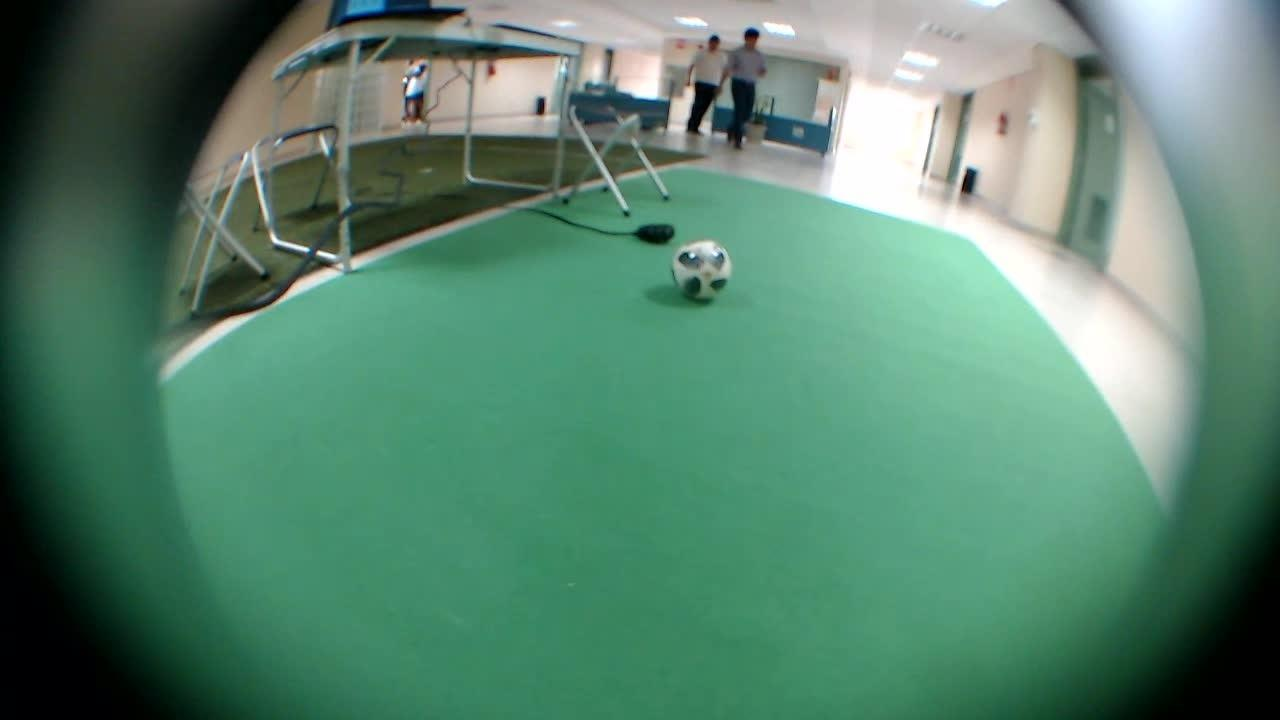ball: (657, 223, 739, 305)
